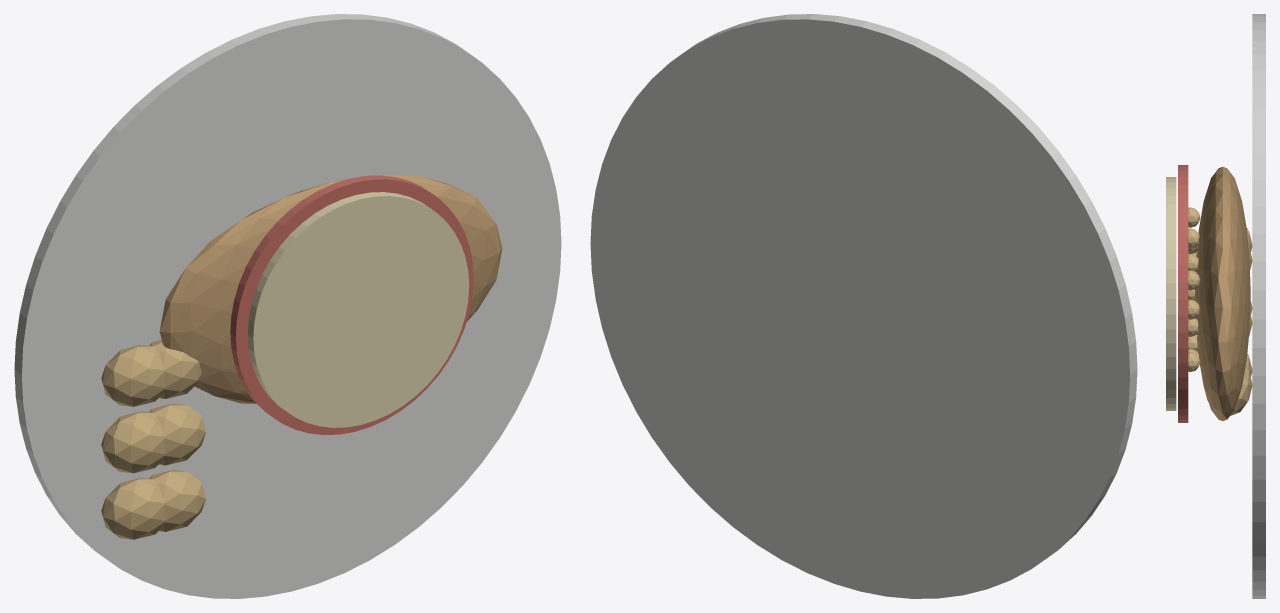
File: chicken-parmesan.glb
3 renders of one model, left to right at view 1: azimuth 30°, elevation 25°; view 2: azimuth 150°, elevation 25°; view 3: azimuth 270°, elevation 25°, orthographic. The views are drawn at different scales.
Parts seen in each view (by area): view 1: world; view 2: world; view 3: world.
Boxes of the visible parts, box(x1,y1,x2,y2) form: world: box(14, 14, 561, 598); world: box(590, 14, 1137, 598); world: box(1166, 14, 1265, 598).
Size of the model in its own units: 0.34 by 0.34 by 0.058.
